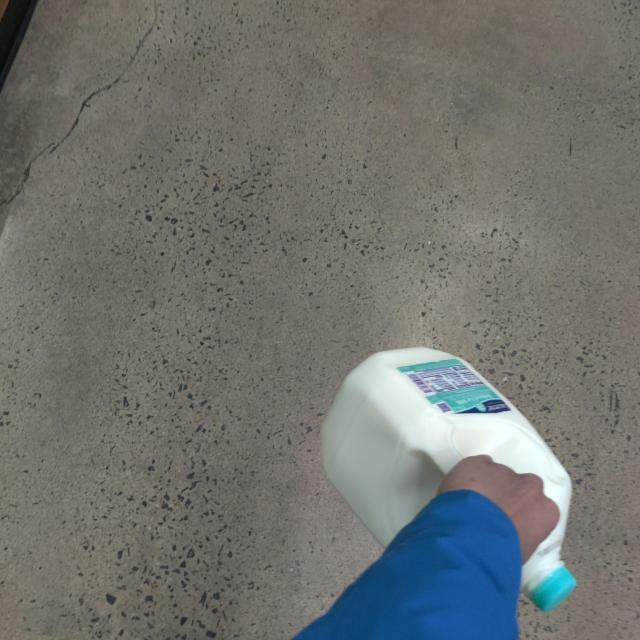Milk: (325, 348, 578, 610)
